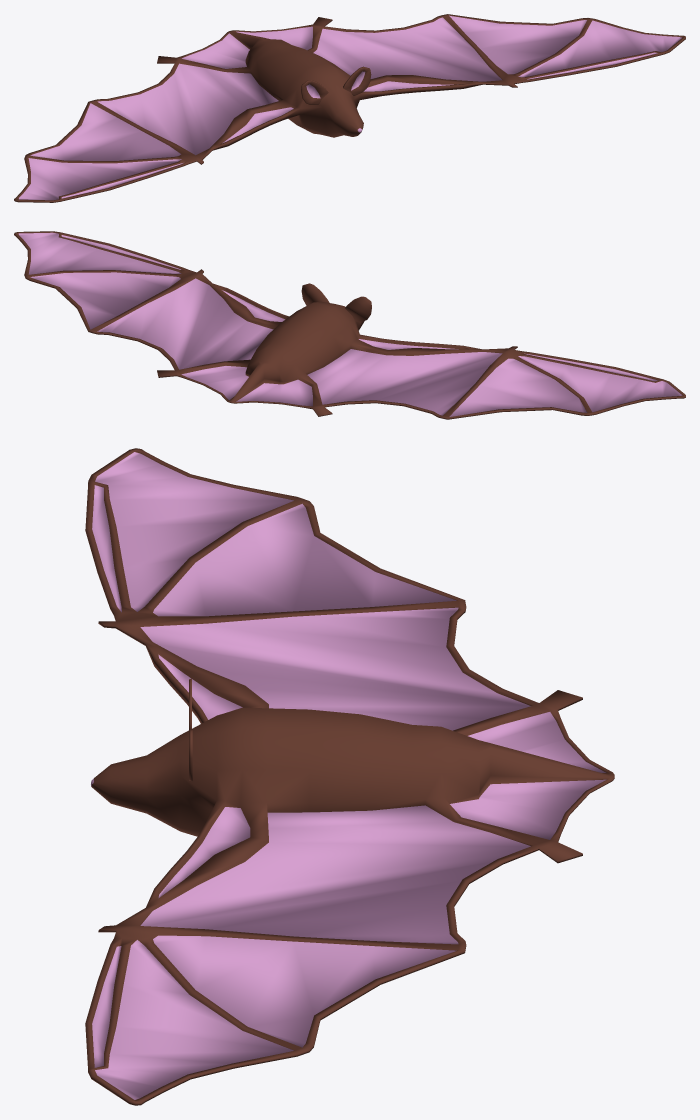
The model's file is bat 1.fbx.
3 renders of one model, top to bottom at view 1: azimuth 30°, elevation 25°; view 2: azimuth 150°, elevation 25°; view 3: azimuth 270°, elevation 25°, orthographic. The views are drawn at different scales.
Visible parts, largest first — view 1: Murci_lago; view 2: Murci_lago; view 3: Murci_lago.
Boxes of the visible parts, left/top/right/bottom form: Murci_lago: left=14, top=14, right=685, bottom=202; Murci_lago: left=14, top=231, right=685, bottom=419; Murci_lago: left=85, top=448, right=614, bottom=1105.
Size of the model in its own units: 9.18 by 0.8758 by 3.13.
